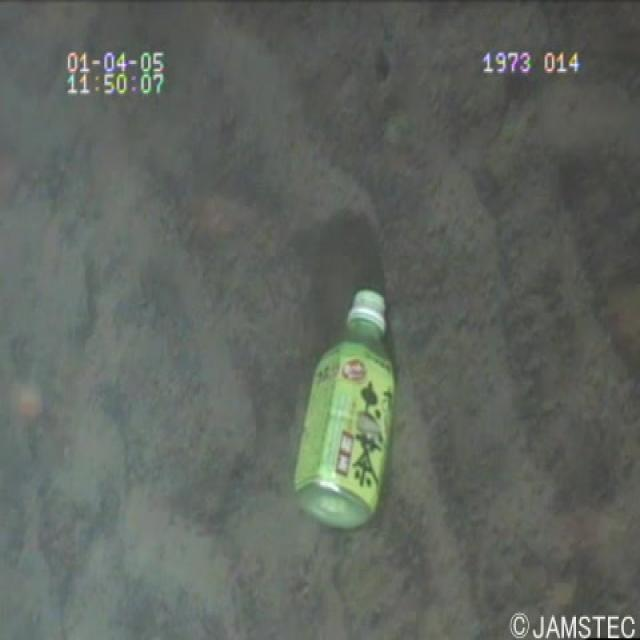plastic: (278, 281, 430, 542)
